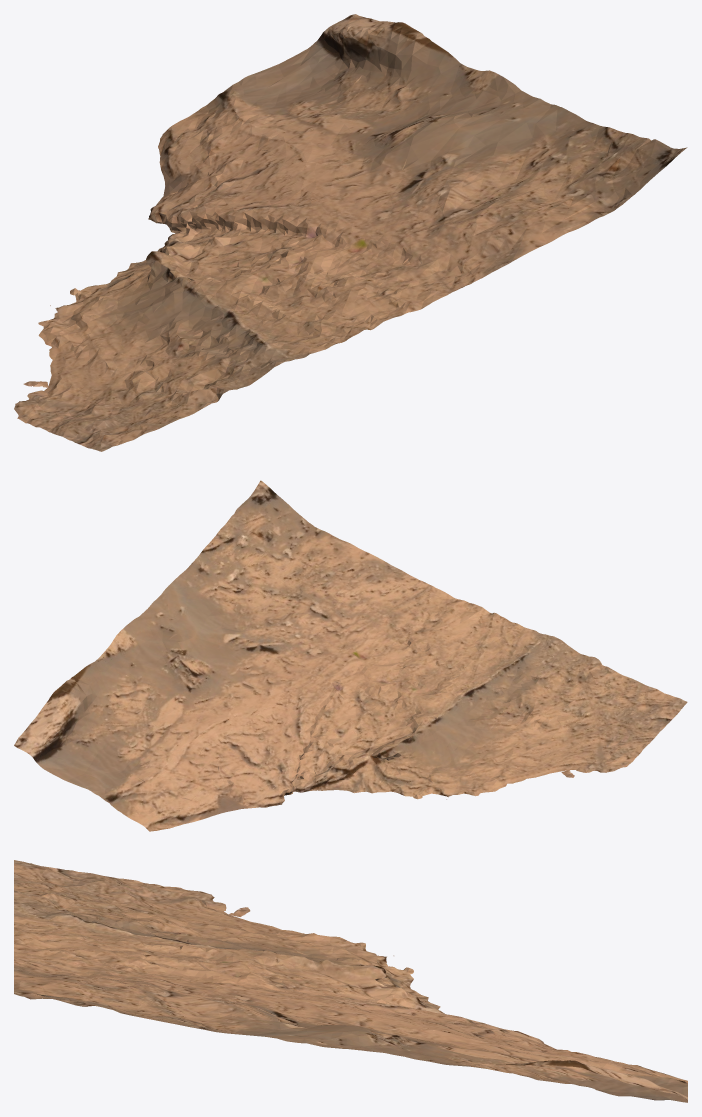
3 renders of one model, top to bottom at view 1: azimuth 30°, elevation 25°; view 2: azimuth 150°, elevation 25°; view 3: azimuth 270°, elevation 25°, orthographic. The views are drawn at different scales.
Size of the model in its own units: 2.09 by 0.6437 by 2.09.
Materials: 2 (2 with a texture image).
